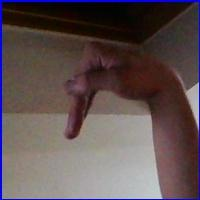del: (63, 38, 184, 150)
